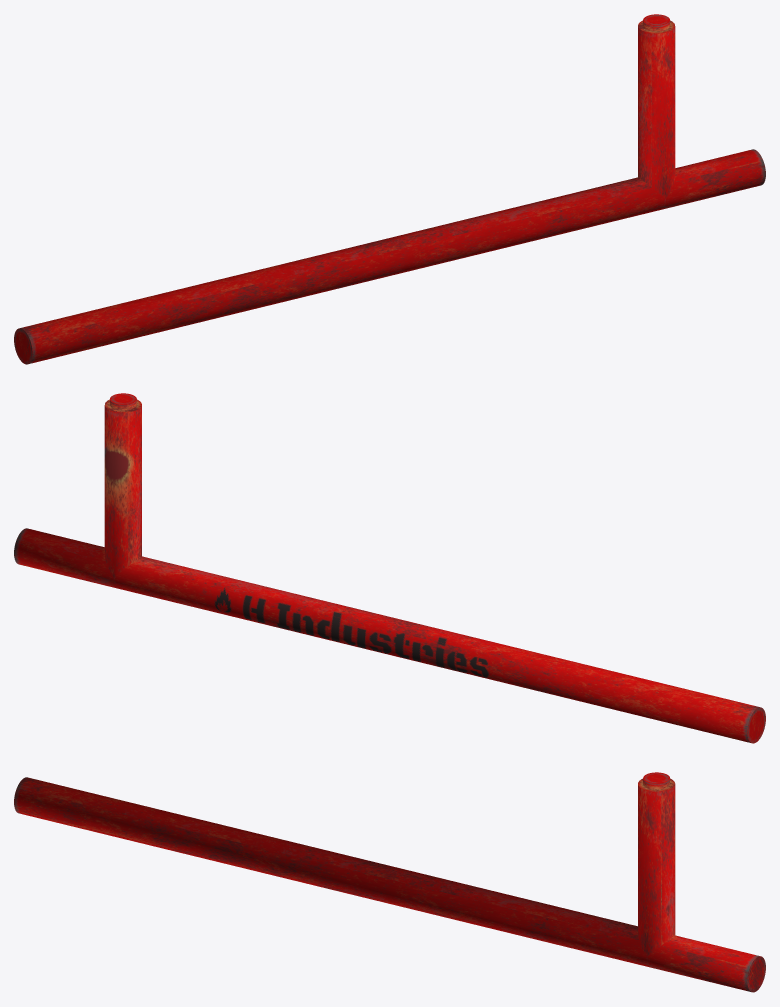
Rendered from NozzelFire.fbx.
3 views of the same model, one above another, from view 1: azimuth 30°, elevation 25°; view 2: azimuth 150°, elevation 25°; view 3: azimuth 330°, elevation 25° (orthographic).
Visible parts, largest first — view 1: Cylinder.001; view 2: Cylinder.001; view 3: Cylinder.001.
Boxes of the visible parts, <box> form: Cylinder.001: <box>14,14,765,364</box>; Cylinder.001: <box>14,393,765,743</box>; Cylinder.001: <box>14,772,765,992</box>.
Size of the model in its own units: 391 by 96.12 by 17.18.
Materials: 1 (1 with a texture image).
